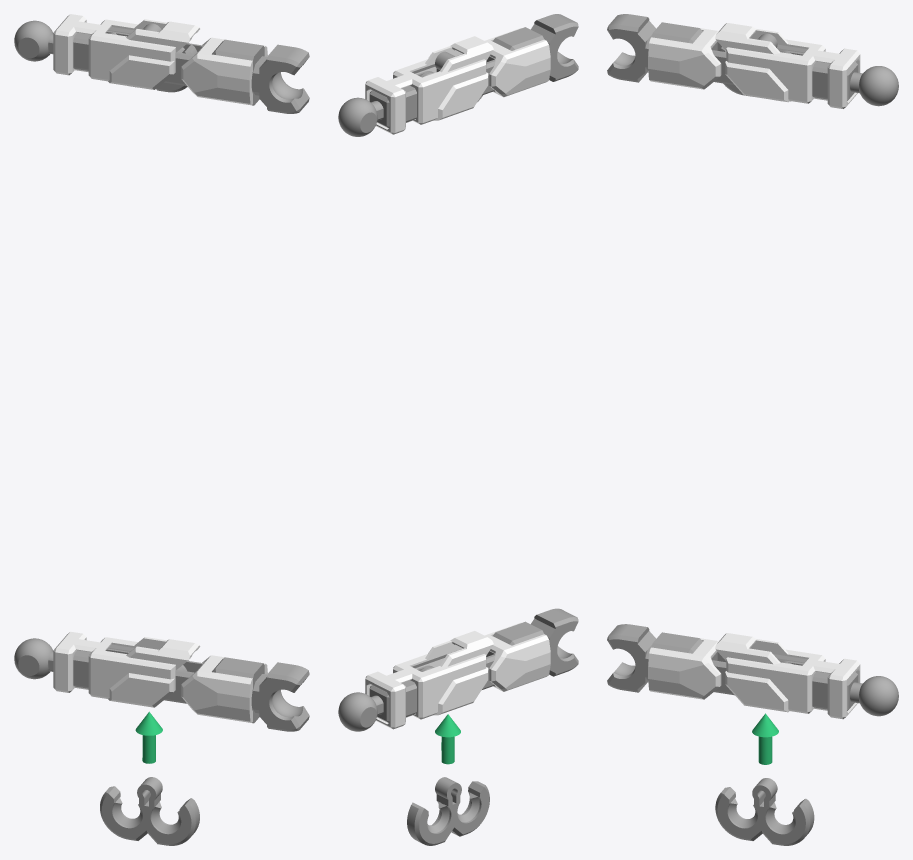
File: elbow.glb
3 views of the same model, side by side, from view 1: azimuth 90°, elevation 25°; view 2: azimuth 150°, elevation 25°; view 3: azimuth 270°, elevation 25° (orthographic). The views are drawn at different scales.
Parts seen in each view (by area): view 1: Body1.023, Body1.018, Body2.001, Body1.017, Body1.022, Body1.019, Body1.014, Body1.021, Body1.016, Body1.020, Body1.015, Arrow.003; view 2: Body1.023, Body1.018, Body2.001, Body1.017, Body1.022, Body1.021, Body1.016, Body1.019, Body1.014, Body1.015, Body1.020, Arrow.003; view 3: Body1.023, Body1.018, Body2.001, Body1.022, Body1.017, Body1.021, Body1.016, Body1.019, Body1.014, Body1.020, Body1.015, Arrow.003.
Boxes of the visible parts, x1=… form: Body1.023: x1=53, y1=631, x2=200, y2=707; Body1.018: x1=53, y1=14, x2=199, y2=89; Body2.001: x1=100, y1=777, x2=199, y2=845; Body1.017: x1=181, y1=37, x2=267, y2=105; Body1.022: x1=181, y1=655, x2=267, y2=722; Body1.019: x1=253, y1=662, x2=309, y2=731; Body1.014: x1=253, y1=44, x2=309, y2=113; Body1.021: x1=14, y1=638, x2=129, y2=688; Body1.016: x1=14, y1=20, x2=129, y2=70; Body1.020: x1=164, y1=657, x2=264, y2=723; Body1.015: x1=164, y1=39, x2=264, y2=105; Arrow.003: x1=135, y1=711, x2=162, y2=763; Body1.023: x1=365, y1=631, x2=493, y2=729; Body1.018: x1=365, y1=36, x2=493, y2=134; Body2.001: x1=407, y1=777, x2=489, y2=845; Body1.017: x1=485, y1=28, x2=550, y2=97; Body1.022: x1=485, y1=622, x2=550, y2=691; Body1.021: x1=338, y1=665, x2=434, y2=731; Body1.016: x1=338, y1=71, x2=433, y2=136; Body1.019: x1=531, y1=608, x2=578, y2=676; Body1.014: x1=531, y1=14, x2=578, y2=81; Body1.015: x1=482, y1=27, x2=544, y2=95; Body1.020: x1=482, y1=621, x2=543, y2=689; Arrow.003: x1=435, y1=714, x2=460, y2=764; Body1.023: x1=715, y1=633, x2=860, y2=719; Body1.018: x1=715, y1=23, x2=860, y2=108; Body2.001: x1=715, y1=778, x2=814, y2=845; Body1.022: x1=648, y1=638, x2=721, y2=699; Body1.017: x1=648, y1=28, x2=721, y2=89; Body1.021: x1=780, y1=660, x2=898, y2=716; Body1.016: x1=780, y1=50, x2=898, y2=106; Body1.019: x1=607, y1=624, x2=655, y2=692; Body1.014: x1=607, y1=14, x2=656, y2=82; Body1.020: x1=652, y1=632, x2=734, y2=695; Body1.015: x1=651, y1=22, x2=734, y2=85; Arrow.003: x1=752, y1=713, x2=778, y2=764.
Bounding box in the file's own units: 19.63 × 132 × 43.36.
